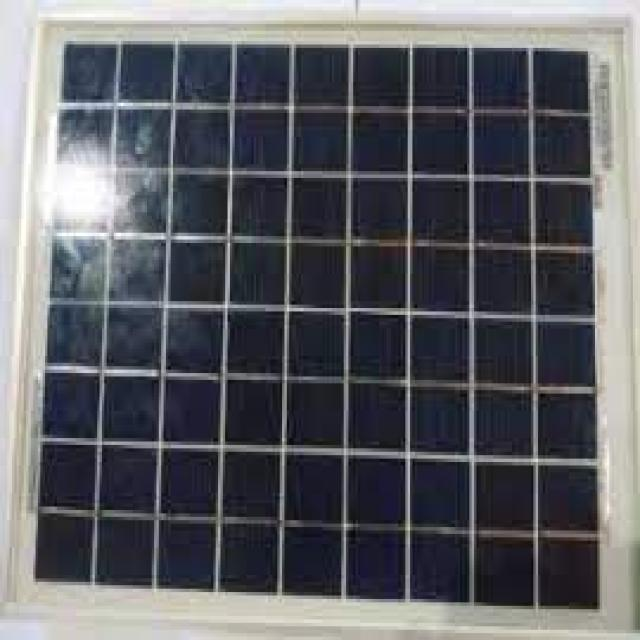faulty: (39, 26, 602, 601)
